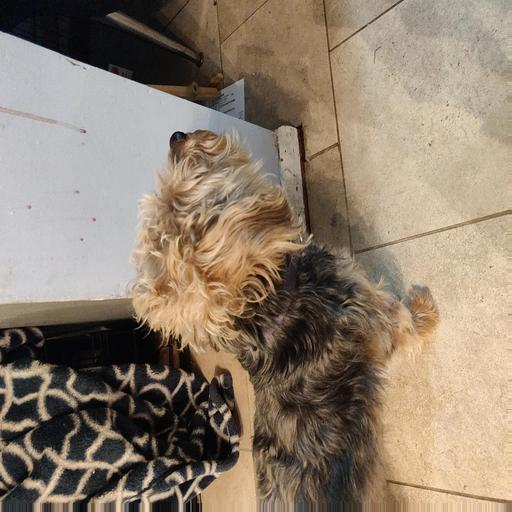dog: (101, 135, 391, 425)
